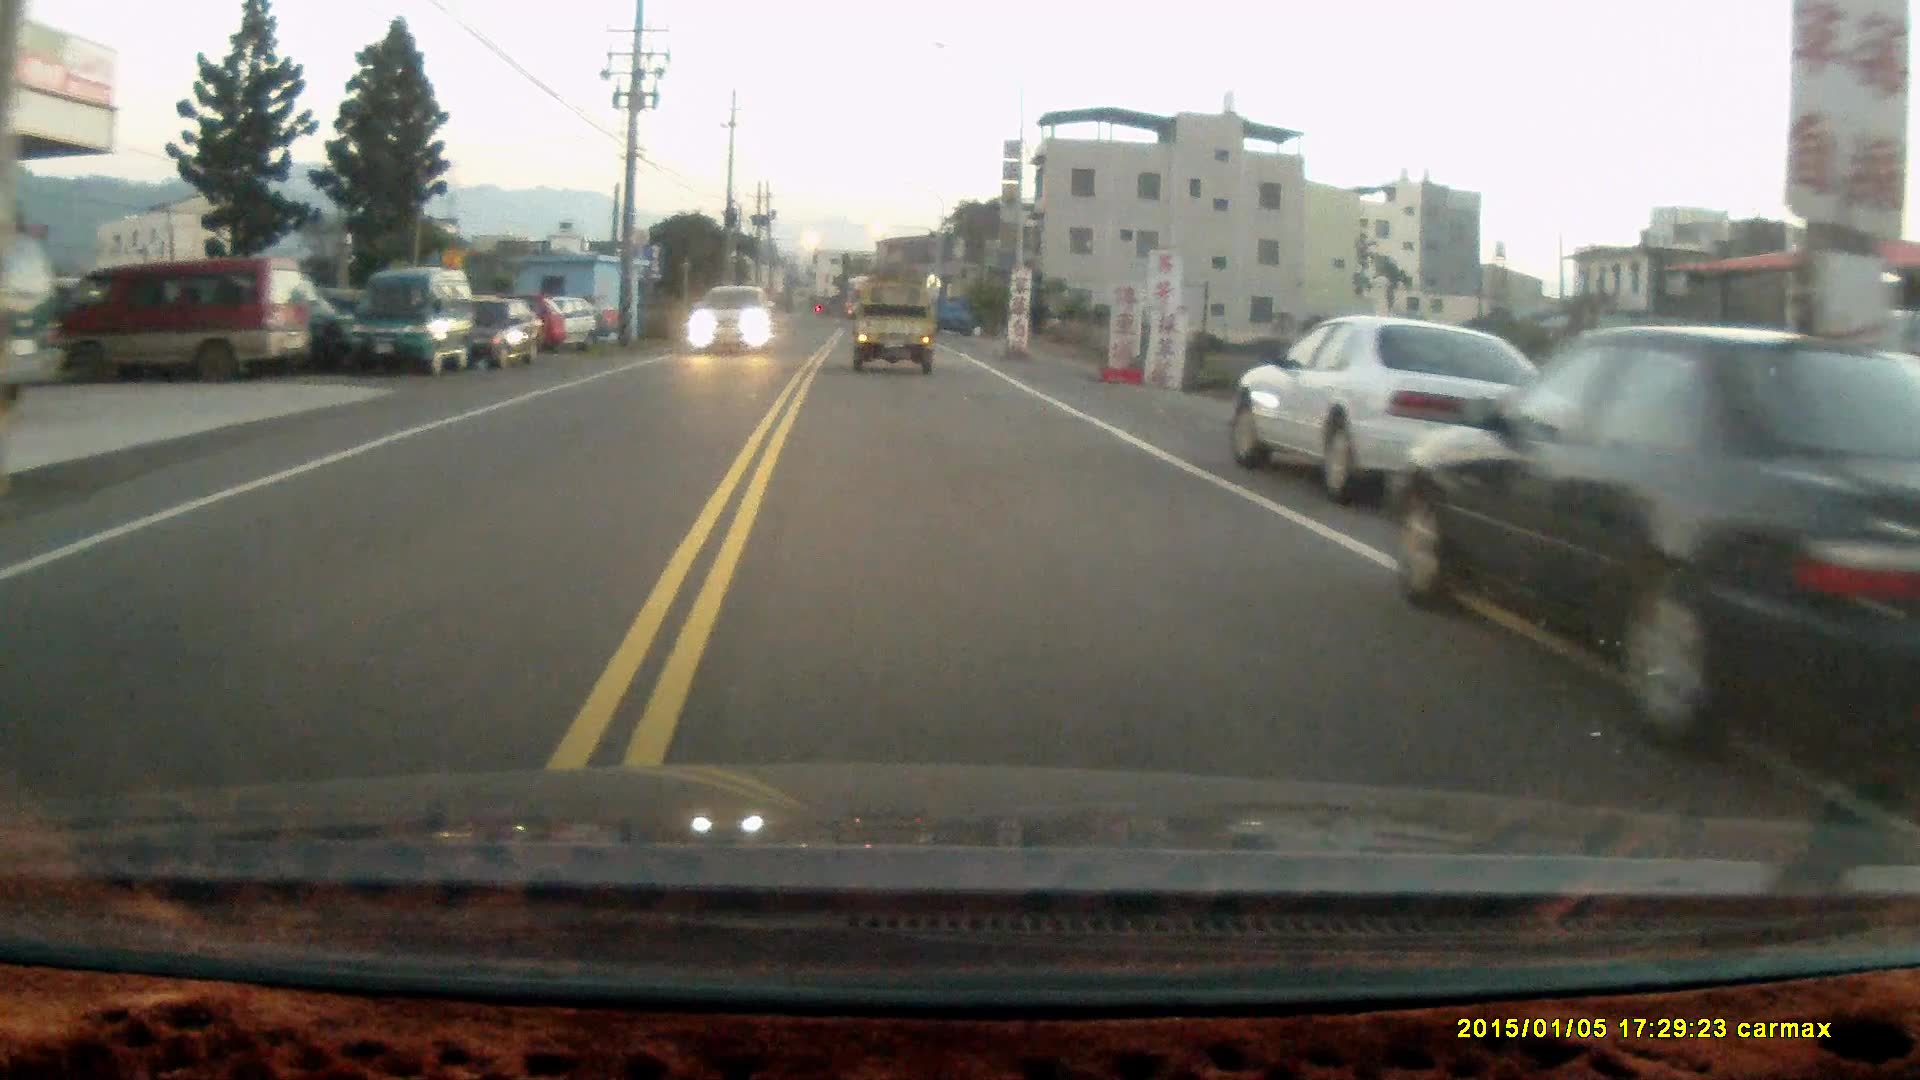vehicle: (1398, 322, 1907, 800), (1228, 316, 1555, 501), (32, 256, 301, 381), (345, 266, 477, 378), (1, 245, 70, 396), (855, 281, 938, 372), (687, 284, 775, 355), (469, 295, 545, 377)
